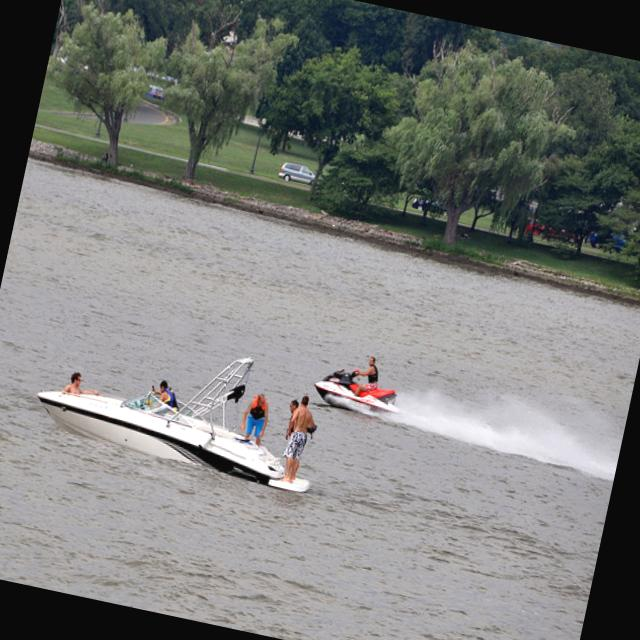Vehicle: (585, 228, 630, 255), (276, 160, 317, 188), (409, 194, 448, 217), (522, 216, 548, 238)
